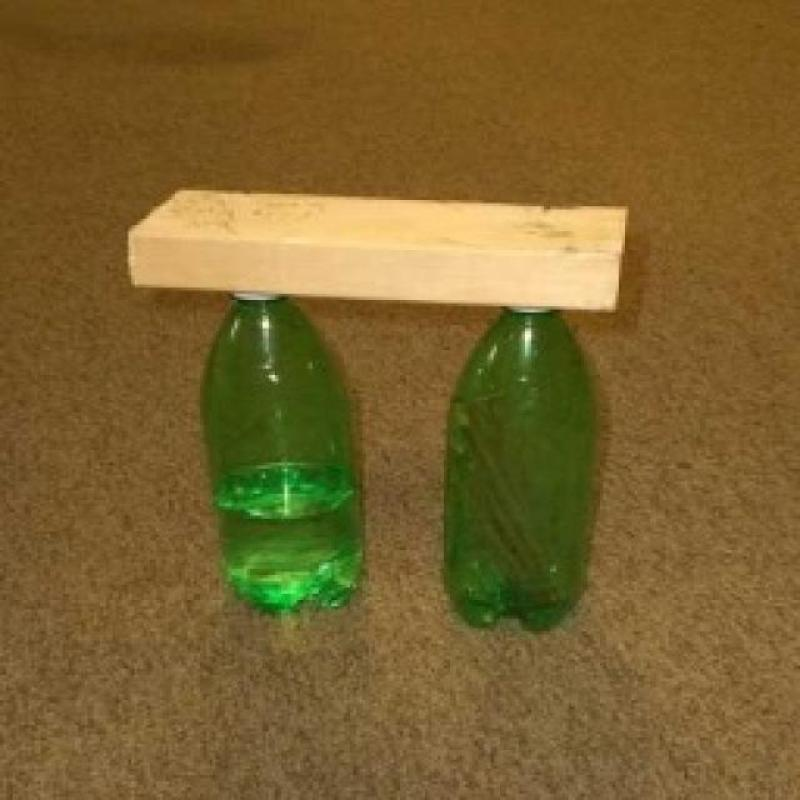botella: (436, 303, 602, 632), (200, 290, 362, 612)
